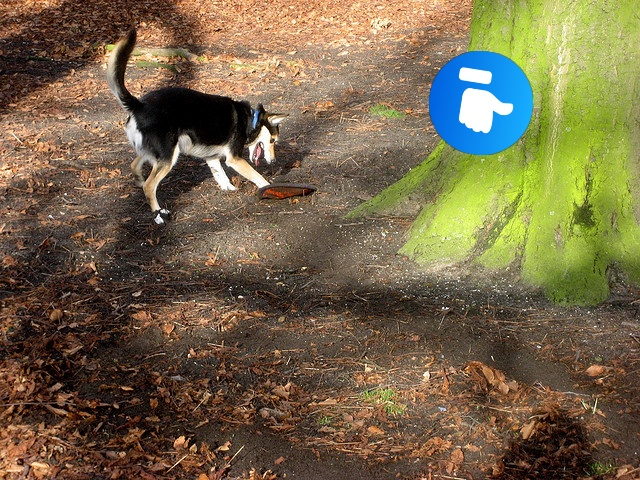like: (429, 51, 533, 155)
